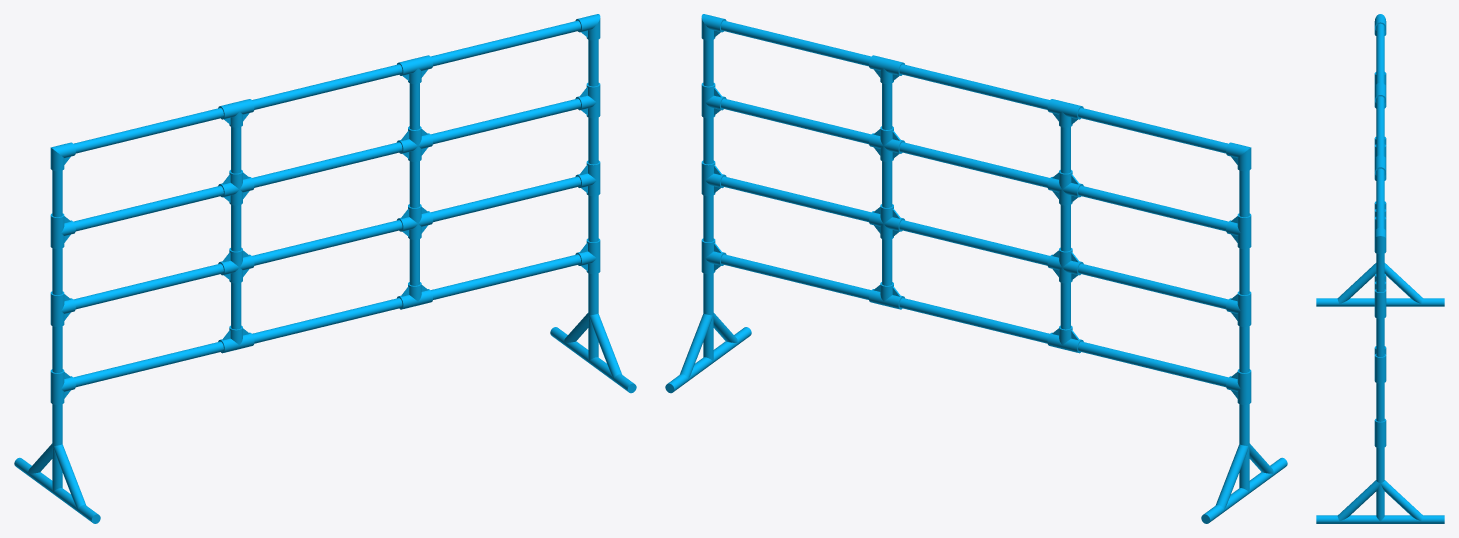
Rendered from 632_イレクターフェンス.glb.
3 views of the same model, side by side, from view 1: azimuth 30°, elevation 25°; view 2: azimuth 150°, elevation 25°; view 3: azimuth 270°, elevation 25° (orthographic). The views are drawn at different scales.
Visible parts, largest first — view 1: Body; view 2: Body; view 3: Body.
Part boxes in pixels (<box>): Body: <box>14,14,636,523</box>; Body: <box>665,14,1287,523</box>; Body: <box>1316,14,1444,523</box>.
Size of the model in its own units: 1.84 by 1.12 by 0.45.
